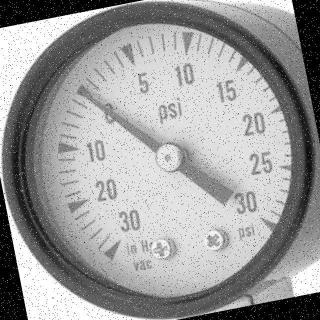gauge: (0, 0, 320, 320), (232, 187, 290, 257), (90, 203, 152, 267), (150, 138, 188, 176), (71, 80, 97, 106)
